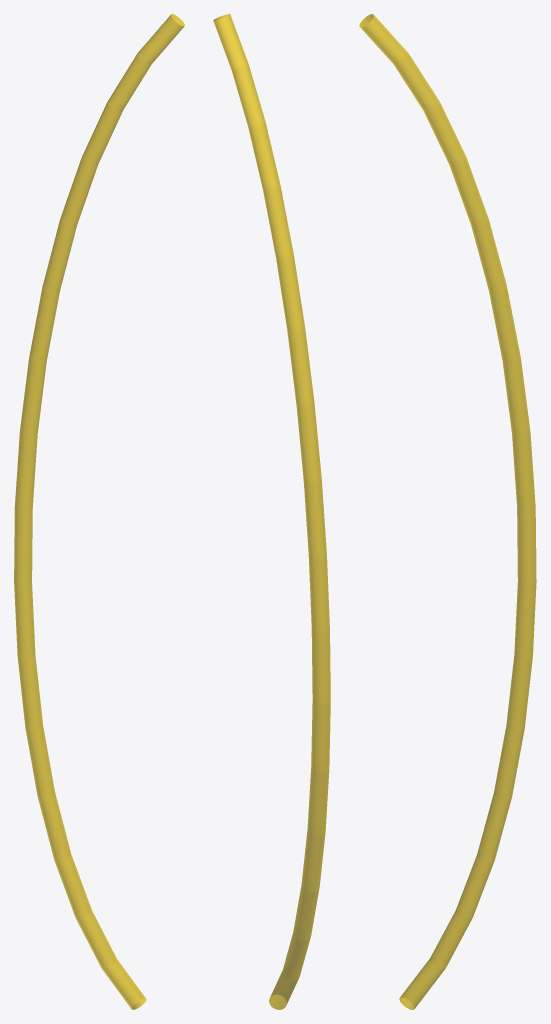
The model's file is Event_75125125_track_102.fbx.
3 renders of one model, left to right at view 1: azimuth 90°, elevation 25°; view 2: azimuth 210°, elevation 25°; view 3: azimuth 270°, elevation 25°, orthographic. The views are drawn at different scales.
Parts seen in each view (by area): view 1: Model; view 2: Model; view 3: Model.
Boxes of the visible parts, x1,y1,x2,y2 form: Model: (14, 14, 184, 1009); Model: (213, 14, 330, 1009); Model: (359, 14, 536, 1009).
Size of the model in its own units: 0.1318 by 2.38 by 0.3784.
